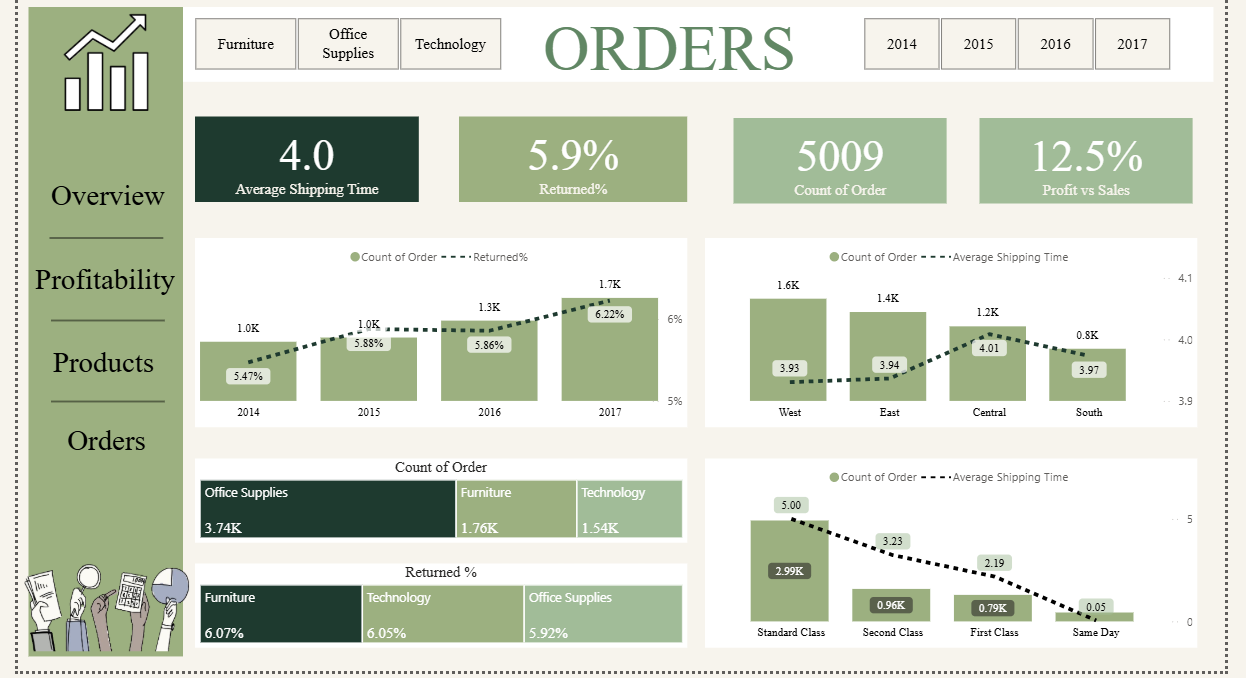

What the dashboard file says about the page in this screenshot:
{"tool":"powerbi","page":{"name":"Orders","canvas":[1280,720],"ordinal":3},"visuals":[{"type":"shape","box":[11.1,15.9,163.8,688.7],"z":0},{"type":"shape","box":[175,15.9,1092.7,79.5],"z":1000},{"type":"image","box":[6.4,17.5,175,114.5],"z":2000},{"type":"image","box":[0,583.2,187.7,136.8],"z":3000},{"type":"card","fields":{"Values":["Count(super_store_datasets.Order ID)"]},"box":[758.7,133.6,225.9,90.7],"z":4000},{"type":"card","fields":{"Values":["just_order.___returned%"]},"box":[467.6,132,241.8,90.7],"z":5000},{"type":"card","fields":{"Values":["Avg(just_order.timee)"]},"box":[187.7,132,237,90.7],"z":6000},{"type":"slicer","fields":{"Values":["Calender.Year"]},"box":[871.7,20.7,373.8,68.4],"z":7000},{"type":"lineStackedColumnComboChart","fields":{"Category":["Calender.Year"],"Y":["CountNonNull(just_order.Order ID)"],"Y2":["just_order.___returned%"]},"box":[187.7,260.9,521.7,200.4],"z":8000},{"type":"lineStackedColumnComboChart","fields":{"Category":["just_order.Region"],"Y":["CountNonNull(just_order.Order ID)"],"Y2":["Avg(just_order.timee)"]},"box":[728.5,260.9,521.7,200.4],"z":9000},{"type":"treemap","title":"Count of Order ","fields":{"Group":["super_store_datasets.Category"],"Values":["Count(super_store_datasets.Order ID)"]},"box":[187.7,494.7,521.7,89.1],"z":10000},{"type":"lineStackedColumnComboChart","fields":{"Category":["just_order.Ship Mode"],"Y":["CountNonNull(just_order.Order ID)"],"Y2":["Avg(just_order.timee)"]},"box":[728.5,494.7,521.7,200.4],"z":11000},{"type":"treemap","title":"Returned % ","fields":{"Group":["super_store_datasets.Category"],"Values":["just_order.___returned%"]},"box":[187.7,606,521.7,89.1],"z":12000},{"type":"textbox","title":"ORDERS","box":[551.9,20.7,283.1,77.9],"z":13000},{"type":"slicer","fields":{"Values":["super_store_datasets.Category"]},"box":[162.2,20.7,373.8,68.4],"z":14000},{"type":"card","fields":{"Values":["super_store_datasets.___profit vs sales"]},"box":[1019.6,133.6,225.9,90.7],"z":15000},{"type":"actionButton","box":[14.3,194.1,162.2,41.4],"z":16000},{"type":"shape","box":[33.4,238.6,120.9,44.5],"z":17000},{"type":"actionButton","box":[11.1,283.1,162.2,41.4],"z":18000},{"type":"shape","box":[35,324.5,120.9,47.7],"z":19000},{"type":"actionButton","box":[19.1,370.6,143.2,41.4],"z":20000},{"type":"shape","box":[35,412,120.9,44.5],"z":21000},{"type":"actionButton","box":[22.3,453.3,143.2,41.4],"z":22000}]}

Visuals, with their boxes on the page's 1280x720 design canvas (x1, y1, x2, y2). These are canvas units, not pixel positions in the 1246x678 screenshot, which may show the page scaled, cropped or inside an application window:
shape: detection(11, 16, 175, 705)
shape: detection(175, 16, 1268, 95)
image: detection(6, 18, 181, 132)
image: detection(0, 583, 188, 720)
card - Count(super_store_datasets.Order ID): detection(759, 134, 985, 224)
card - just_order.___returned%: detection(468, 132, 709, 223)
card - Avg(just_order.timee): detection(188, 132, 425, 223)
slicer - Calender.Year: detection(872, 21, 1246, 89)
lineStackedColumnComboChart - Calender.Year x CountNonNull(just_order.Order ID): detection(188, 261, 709, 461)
lineStackedColumnComboChart - just_order.Region x CountNonNull(just_order.Order ID): detection(728, 261, 1250, 461)
"Count of Order " treemap: detection(188, 495, 709, 584)
lineStackedColumnComboChart - just_order.Ship Mode x CountNonNull(just_order.Order ID): detection(728, 495, 1250, 695)
"Returned % " treemap: detection(188, 606, 709, 695)
"ORDERS" textbox: detection(552, 21, 835, 99)
slicer - super_store_datasets.Category: detection(162, 21, 536, 89)
card - super_store_datasets.___profit vs sales: detection(1020, 134, 1246, 224)
actionButton: detection(14, 194, 176, 236)
shape: detection(33, 239, 154, 283)
actionButton: detection(11, 283, 173, 324)
shape: detection(35, 324, 156, 372)
actionButton: detection(19, 371, 162, 412)
shape: detection(35, 412, 156, 456)
actionButton: detection(22, 453, 166, 495)
